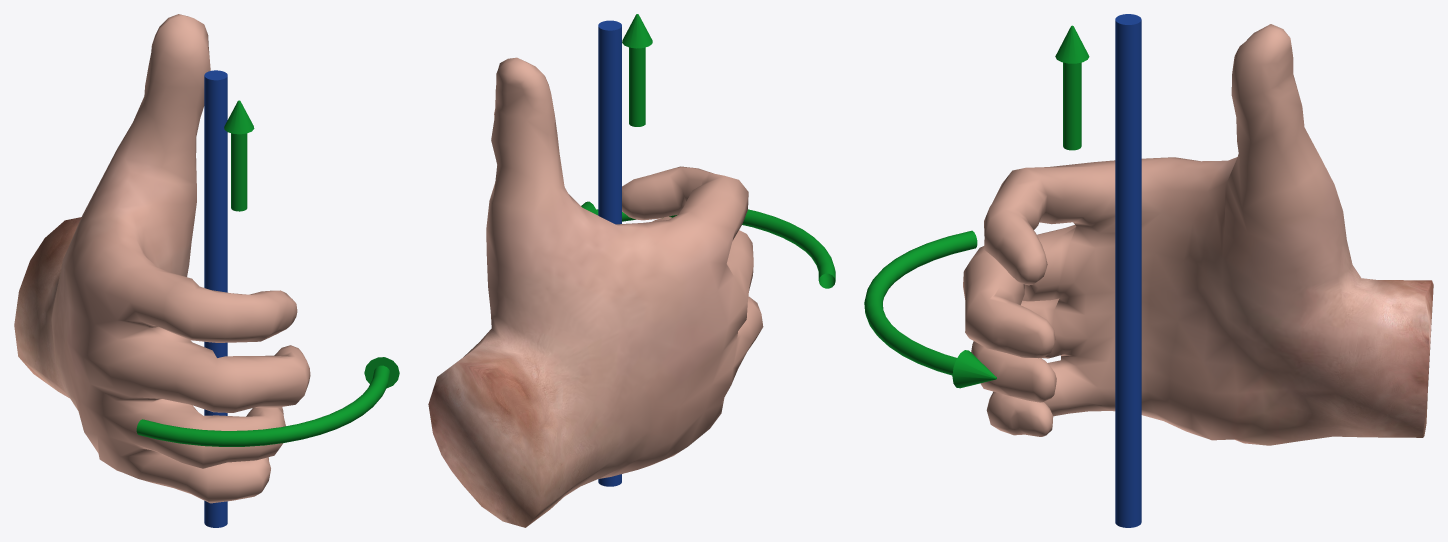
Rendered from RightHandGrip.glb.
3 renders of one model, left to right at view 1: azimuth 30°, elevation 25°; view 2: azimuth 150°, elevation 25°; view 3: azimuth 270°, elevation 25°, orthographic. The views are drawn at different scales.
Parts seen in each view (by area): view 1: AvatarBody.006, Cylinder, BezierCurve, BezierCurve.002; view 2: AvatarBody.006, Cylinder, BezierCurve, BezierCurve.002; view 3: AvatarBody.006, Cylinder, BezierCurve, BezierCurve.002.
Part boxes in pixels (x1,y1,x2,y2): AvatarBody.006: (14,14,310,503); Cylinder: (204,70,227,527); BezierCurve: (136,357,399,446); BezierCurve.002: (224,100,254,211); AvatarBody.006: (428,57,763,527); Cylinder: (598,20,621,486); BezierCurve: (581,201,835,288); BezierCurve.002: (622,14,652,126); AvatarBody.006: (963,24,1433,445); Cylinder: (1115,14,1141,527); BezierCurve: (864,230,996,388); BezierCurve.002: (1055,25,1089,150).
Bounding box in the file's own units: 0.1093 × 0.1825 × 0.1844.
3 materials, 3 textured.
